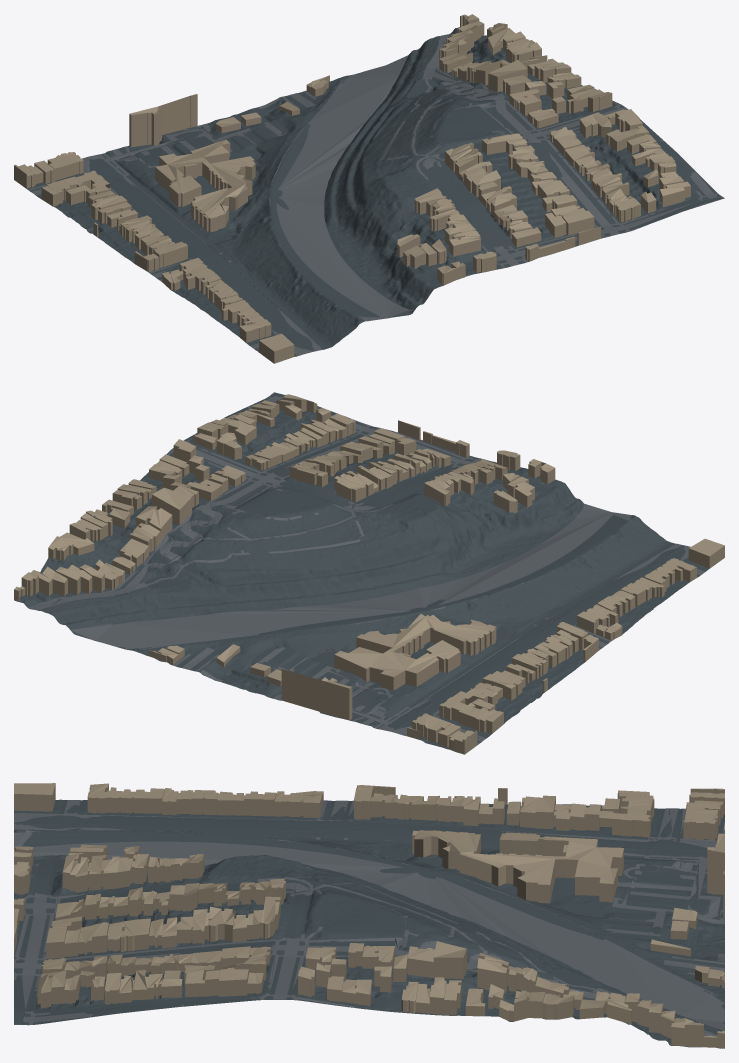
The model's file is epsg26910-1438-10883.lod0.glb.
The picture shows the model from 3 angles, top to bottom: view 1: azimuth 30°, elevation 25°; view 2: azimuth 150°, elevation 25°; view 3: azimuth 270°, elevation 25°; orthographic projection. The views are drawn at different scales.
Parts seen in each view (by area): view 1: epsg26910-1438-10883-lod0; view 2: epsg26910-1438-10883-lod0; view 3: epsg26910-1438-10883-lod0.
Part boxes in pixels (x1,y1,x2,y2): epsg26910-1438-10883-lod0: (14, 14, 724, 363); epsg26910-1438-10883-lod0: (14, 392, 724, 754); epsg26910-1438-10883-lod0: (14, 783, 724, 1048).
Bounding box in the file's own units: 384 × 76.1 × 384.
